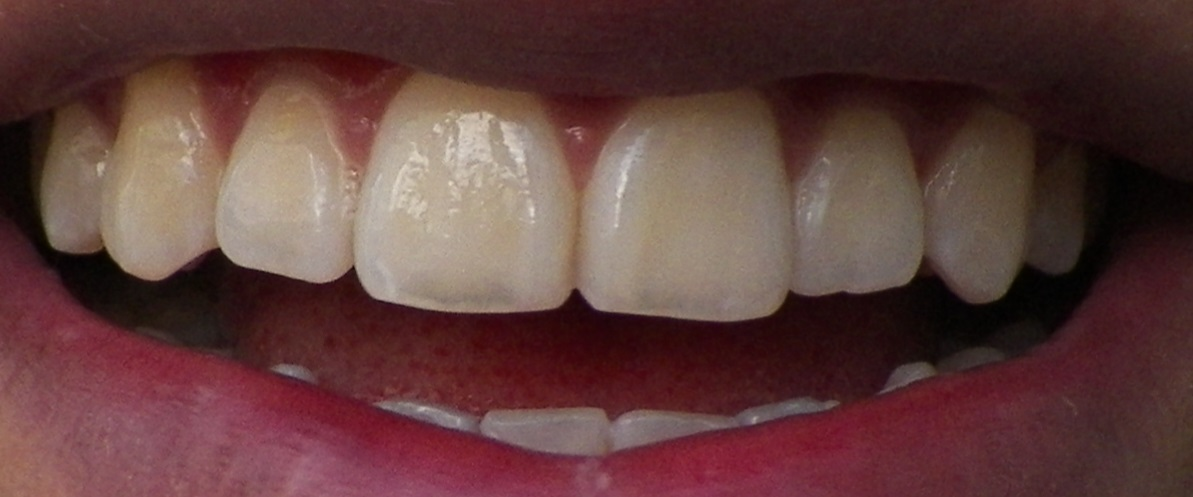boca: (25, 85, 1099, 448)
